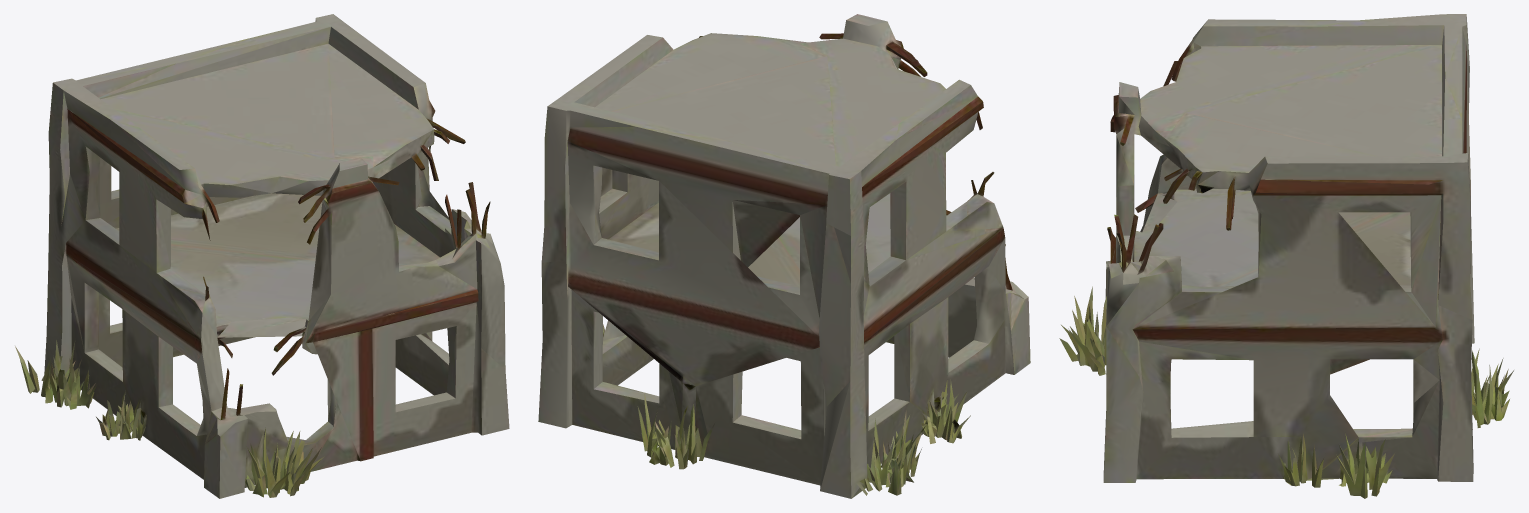
Rendered from prop_building.glb.
3 views of the same model, side by side, from view 1: azimuth 30°, elevation 25°; view 2: azimuth 150°, elevation 25°; view 3: azimuth 270°, elevation 25° (orthographic). The views are drawn at different scales.
Size of the model in its own units: 1.82 by 1.4 by 1.82.
1 material, 1 textured.
